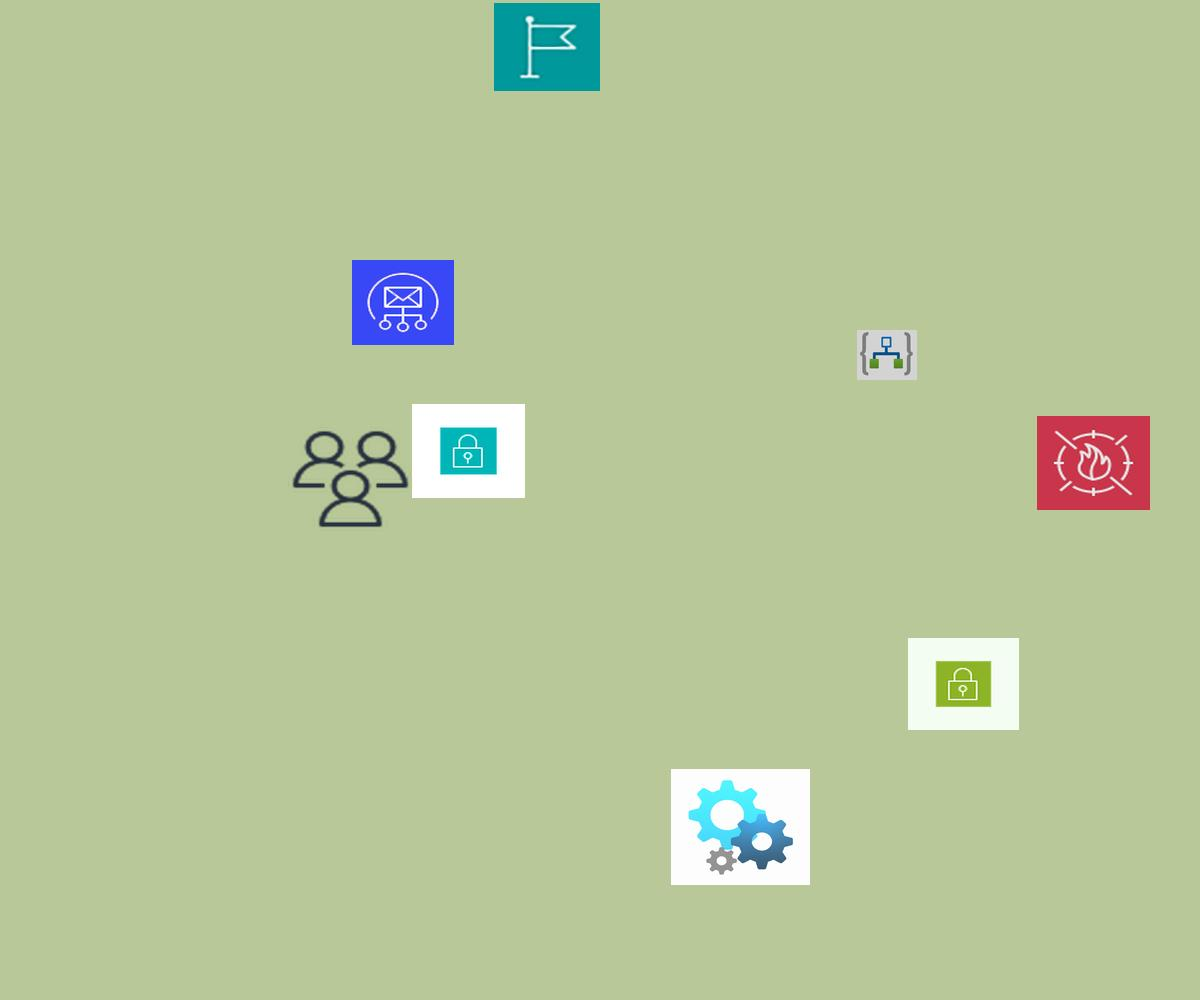AWS-Private-subnet: (412, 404, 525, 498)
AWS-Public-subnet: (908, 638, 1019, 730)
AWS-Region: (494, 3, 600, 91)
AWS-Res_Users: (288, 427, 413, 531)
AWS-Simple-Email-Service: (352, 260, 454, 345)
AWS-WAF: (1037, 416, 1150, 510)
Azure_api: (671, 769, 810, 885)
Azure_integration-204-Logic-Apps: (857, 330, 917, 380)
